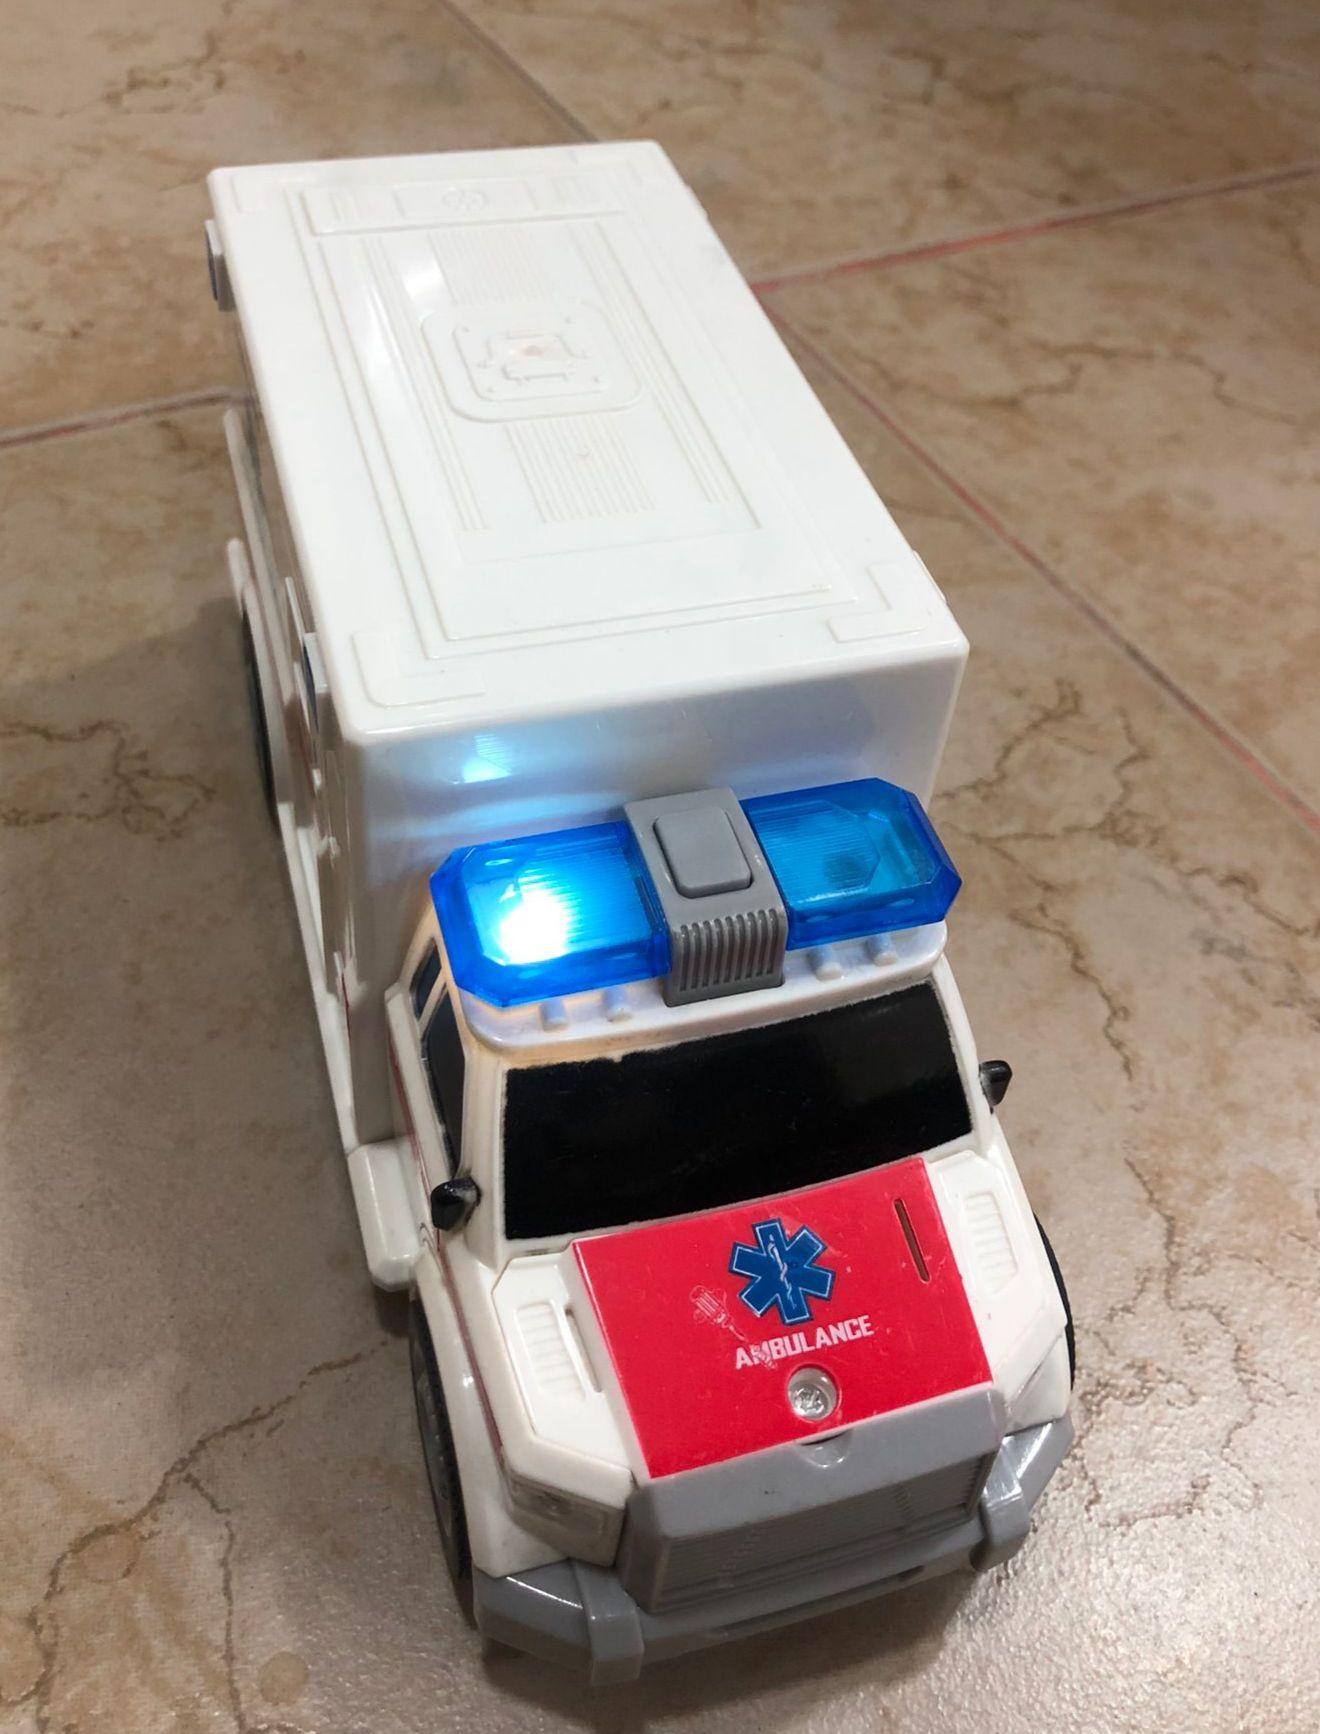ambulance_on: (201, 141, 1084, 1683)
